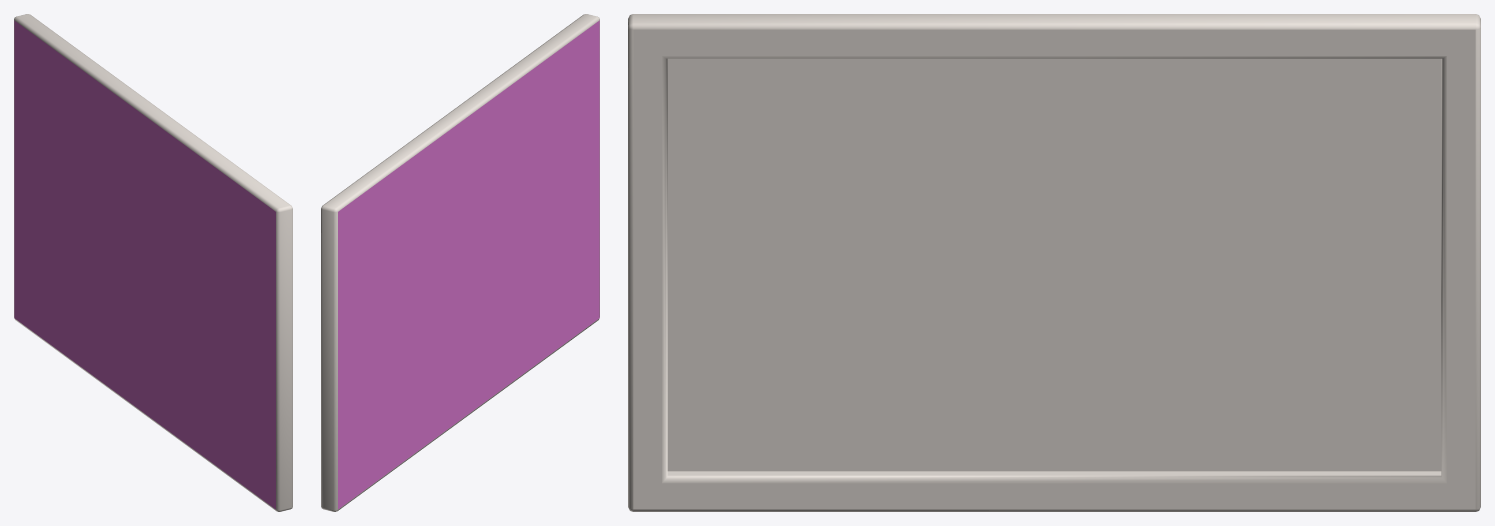
The model's file is canvas.fbx.
3 views of the same model, side by side, from view 1: azimuth 30°, elevation 25°; view 2: azimuth 150°, elevation 25°; view 3: azimuth 270°, elevation 25° (orthographic). The views are drawn at different scales.
Visible parts, largest first — view 1: Cube; view 2: Cube; view 3: Cube.
Part boxes in pixels (x1,y1,x2,y2): Cube: (14, 14, 292, 511); Cube: (321, 14, 599, 511); Cube: (628, 14, 1480, 511).
Size of the model in its own units: 11.46 by 200 by 316.
